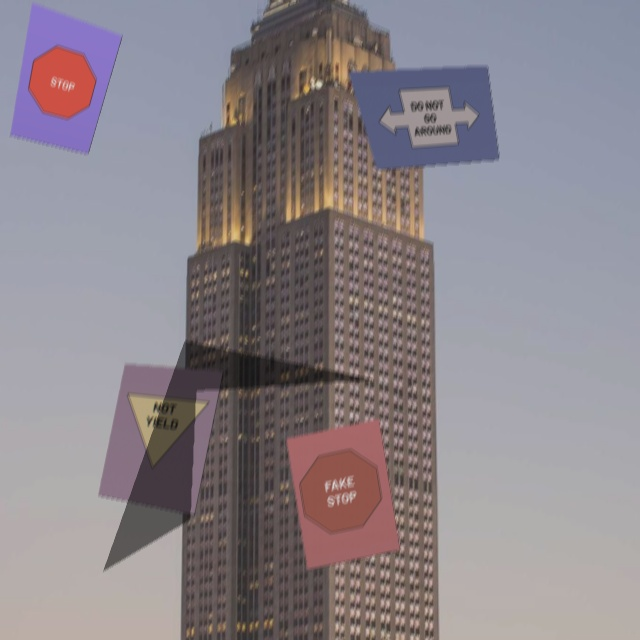DO_NOT_GO_AROUND: (370, 85, 484, 151)
FAKE_STOP: (295, 444, 385, 538)
NOT_YIELD: (111, 394, 210, 475)
STOP: (20, 39, 102, 124)
